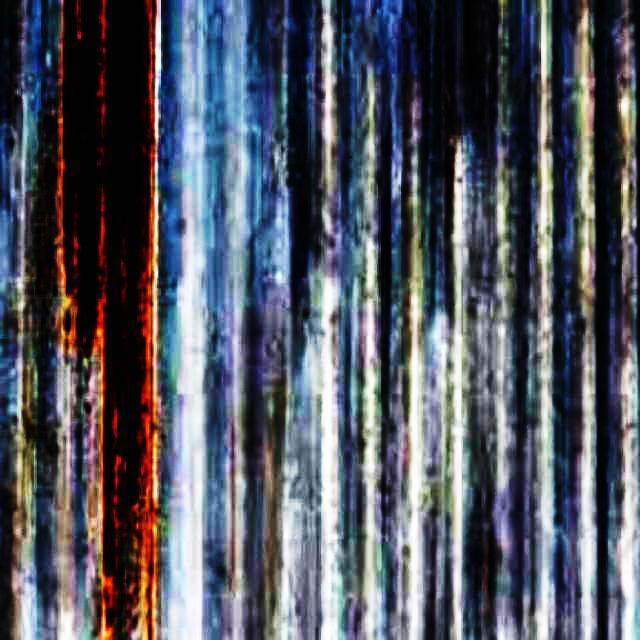Corrosion: (64, 0, 154, 640), (43, 164, 56, 183), (43, 116, 56, 133)
